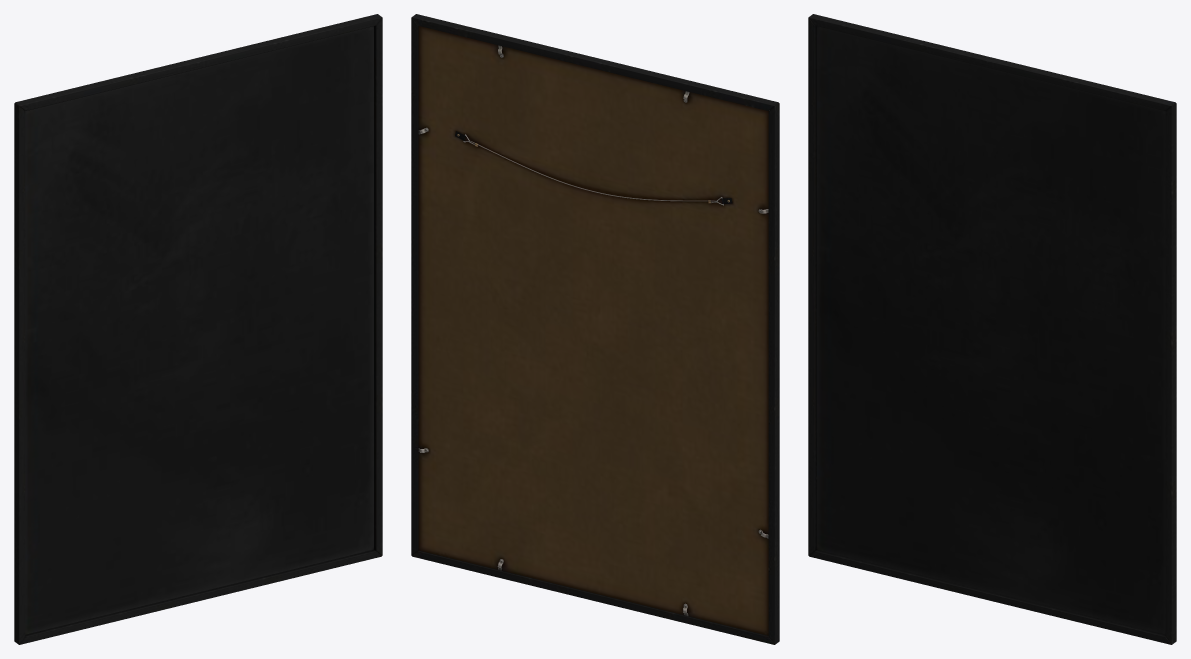
Rendered from hanging_picture_frame_01.gltf.
3 views of the same model, side by side, from view 1: azimuth 30°, elevation 25°; view 2: azimuth 150°, elevation 25°; view 3: azimuth 330°, elevation 25° (orthographic).
Parts seen in each view (by area): view 1: hanging_picture_frame_01; view 2: hanging_picture_frame_01; view 3: hanging_picture_frame_01.
Boxes of the visible parts, left/top/right/bottom form: hanging_picture_frame_01: left=14, top=14, right=382, bottom=644; hanging_picture_frame_01: left=411, top=14, right=779, bottom=644; hanging_picture_frame_01: left=808, top=14, right=1176, bottom=644.
Bounding box in the file's own units: 0.594 × 0.841 × 0.0157.
Materials: 3 (3 with a texture image).
